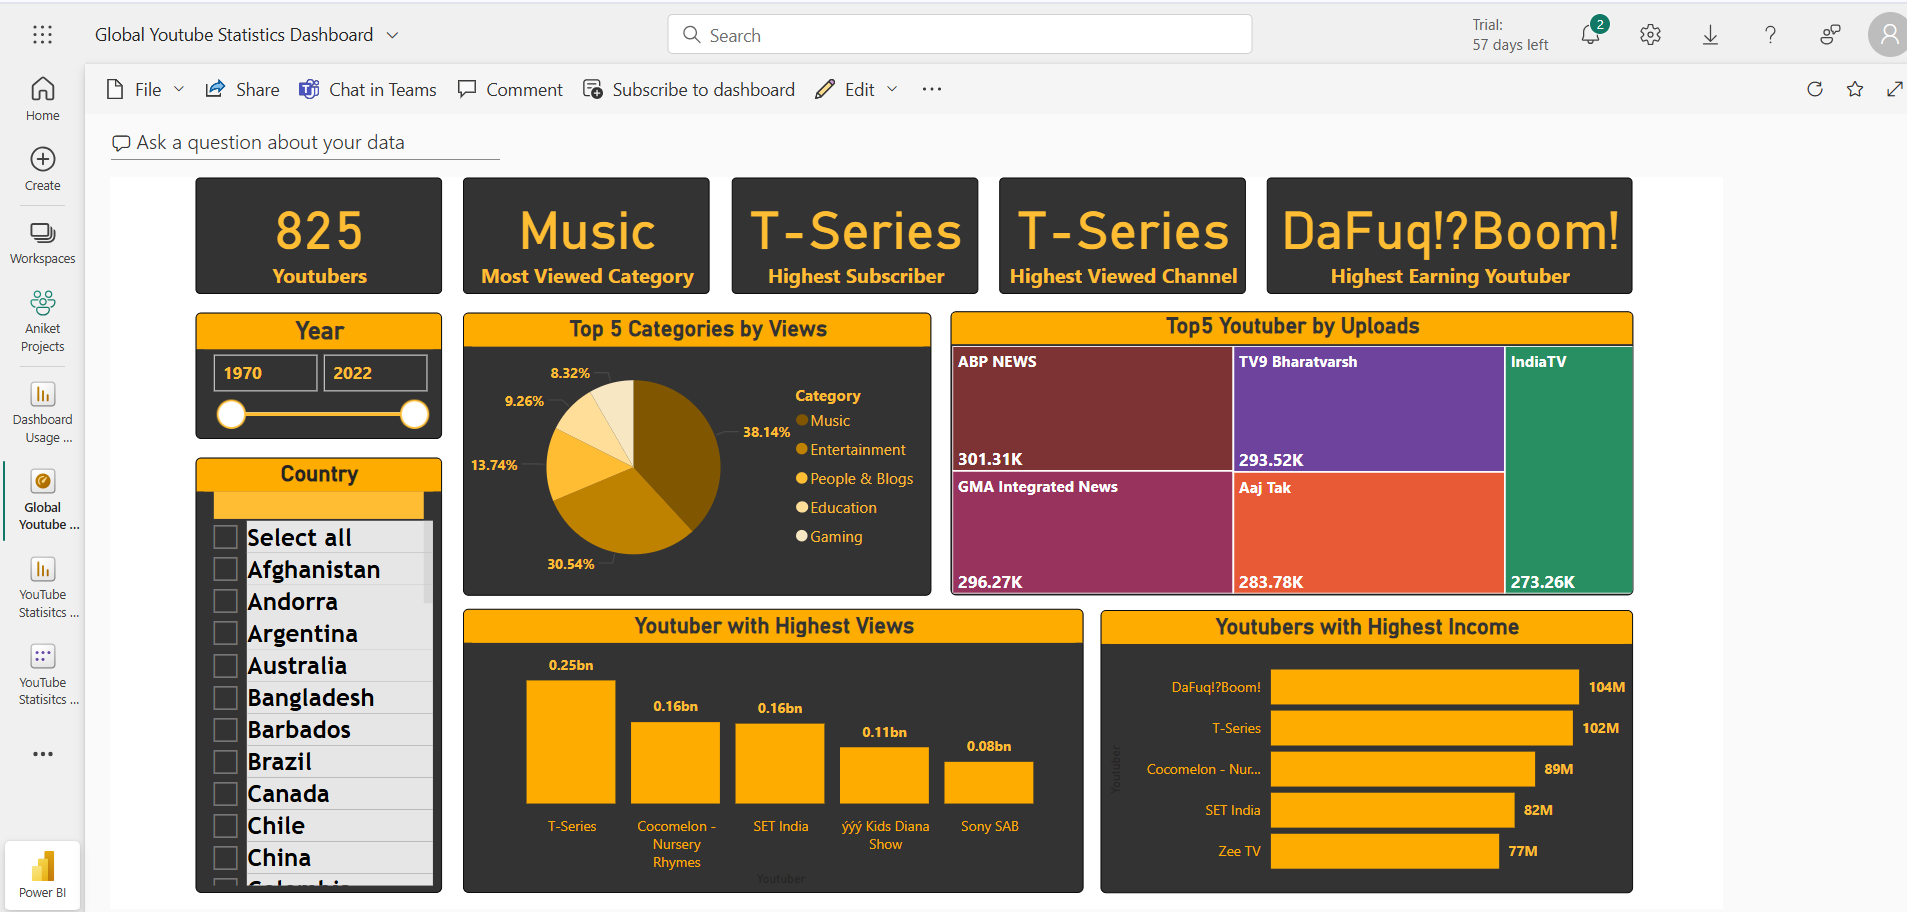

This screenshot's page, from the dashboard's own definition file:
{"tool":"powerbi","page":{"name":"Report","canvas":[1280,720],"ordinal":0},"visuals":[{"type":"textbox","box":[0,0,1280.3,72.7],"z":0},{"type":"card","fields":{"Values":["Global YouTube Statistics.Number of Youtubers"]},"box":[11.1,81.1,215,102],"z":1000},{"type":"slicer","title":"Country","fields":{"Values":["Global YouTube Statistics.Country"]},"box":[11.1,325.6,215,379.7],"z":2000},{"type":"slicer","title":"Year","fields":{"Values":["Global YouTube Statistics.created_year"]},"box":[11.1,199,215,110.6],"z":3000},{"type":"card","fields":{"Values":["Min(Global YouTube Statistics.Youtuber)"]},"box":[712.3,81.1,215,102],"z":4000},{"type":"card","fields":{"Values":["Min(Global YouTube Statistics.Youtuber)"]},"box":[478.6,81.1,215,102],"z":5000},{"type":"card","fields":{"Values":["Min(Global YouTube Statistics.Youtuber)"]},"box":[946.1,81.1,319.4,102],"z":6000},{"type":"card","fields":{"Values":["Min(Global YouTube Statistics.category)"]},"box":[244.8,81.1,215,102],"z":7000},{"type":"pieChart","title":"Top 5 Categories by Views","fields":{"Category":["Global YouTube Statistics.category"],"Y":["Sum(Global YouTube Statistics.video views)"]},"box":[244.5,199,409.1,247],"z":8000},{"type":"columnChart","title":"Youtuber with Highest Views","fields":{"Category":["Global YouTube Statistics.Youtuber"],"Y":["Sum(Global YouTube Statistics.subscribers)"]},"box":[244.5,457.1,541.8,248.2],"z":9000},{"type":"barChart","title":"Youtubers with Highest Income","fields":{"Category":["Global YouTube Statistics.Youtuber"],"Y":["Global YouTube Statistics.Avg_Yearly_Income"]},"box":[801.1,458.3,464.4,247],"z":10000},{"type":"treemap","title":"Top5 Youtuber by Uploads","fields":{"Values":["Sum(Global YouTube Statistics.uploads)"],"Group":["Global YouTube Statistics.Youtuber"]},"box":[669.6,197.8,595.9,248.2],"z":11000}]}

Visuals, with their boxes on the page's 1280x720 design canvas (x1, y1, x2, y2). These are canvas units, not pixel positions in the 1907x912 screenshot, which may show the page scaled, cropped or inside an application window:
textbox: bbox=[0, 0, 1280, 73]
card - Global YouTube Statistics.Number of Youtubers: bbox=[11, 81, 226, 183]
"Country" slicer: bbox=[11, 326, 226, 705]
"Year" slicer: bbox=[11, 199, 226, 310]
card - Min(Global YouTube Statistics.Youtuber): bbox=[712, 81, 927, 183]
card - Min(Global YouTube Statistics.Youtuber): bbox=[479, 81, 694, 183]
card - Min(Global YouTube Statistics.Youtuber): bbox=[946, 81, 1266, 183]
card - Min(Global YouTube Statistics.category): bbox=[245, 81, 460, 183]
"Top 5 Categories by Views" pieChart: bbox=[244, 199, 654, 446]
"Youtuber with Highest Views" columnChart: bbox=[244, 457, 786, 705]
"Youtubers with Highest Income" barChart: bbox=[801, 458, 1266, 705]
"Top5 Youtuber by Uploads" treemap: bbox=[670, 198, 1266, 446]
